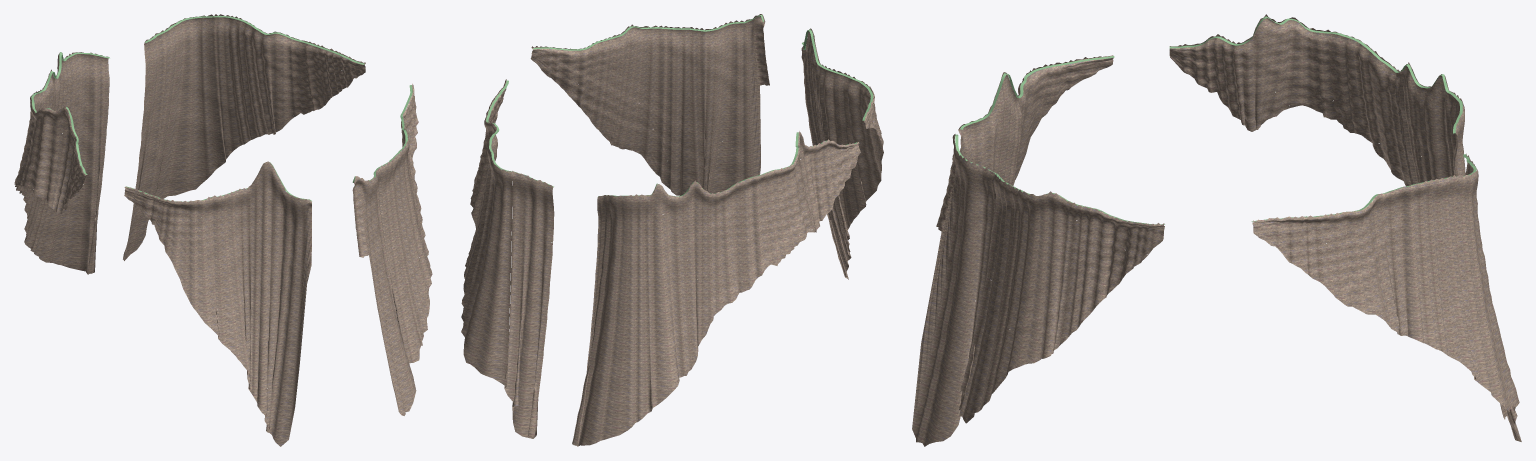
The model's file is CliffWall_gate_massif.glb.
3 views of the same model, side by side, from view 1: azimuth 30°, elevation 25°; view 2: azimuth 150°, elevation 25°; view 3: azimuth 270°, elevation 25° (orthographic). The views are drawn at different scales.
Visible parts, largest first — view 1: CliffWall_gate_massif-rock2, CliffWall_gate_massif-rock0, CliffWall_gate_massif-rock3, CliffWall_gate_massif-rock1, CliffWall_gate_massif-rock4, CliffWall_gate_massif-lip3, CliffWall_gate_massif-lip0; view 2: CliffWall_gate_massif-rock3, CliffWall_gate_massif-rock1, CliffWall_gate_massif-rock0, CliffWall_gate_massif-rock4, CliffWall_gate_massif-rock2, CliffWall_gate_massif-lip1; view 3: CliffWall_gate_massif-rock1, CliffWall_gate_massif-rock0, CliffWall_gate_massif-rock3, CliffWall_gate_massif-rock2, CliffWall_gate_massif-lip3, CliffWall_gate_massif-lip2.
Part boxes in pixels (x1,y1,x2,y2): CliffWall_gate_massif-rock2: [124, 161, 311, 446]; CliffWall_gate_massif-rock0: [155, 14, 365, 198]; CliffWall_gate_massif-rock3: [14, 52, 109, 274]; CliffWall_gate_massif-rock1: [352, 83, 432, 415]; CliffWall_gate_massif-rock4: [123, 21, 179, 260]; CliffWall_gate_massif-lip3: [31, 52, 109, 174]; CliffWall_gate_massif-lip0: [179, 15, 364, 64]; CliffWall_gate_massif-rock3: [572, 131, 860, 446]; CliffWall_gate_massif-rock1: [530, 14, 769, 195]; CliffWall_gate_massif-rock0: [461, 79, 512, 386]; CliffWall_gate_massif-rock4: [504, 171, 554, 438]; CliffWall_gate_massif-rock2: [801, 28, 883, 279]; CliffWall_gate_massif-lip1: [532, 15, 763, 50]; CliffWall_gate_massif-rock1: [912, 134, 1164, 446]; CliffWall_gate_massif-rock0: [1252, 166, 1519, 411]; CliffWall_gate_massif-rock3: [1169, 14, 1506, 419]; CliffWall_gate_massif-rock2: [958, 55, 1113, 185]; CliffWall_gate_massif-lip3: [1169, 16, 1462, 133]; CliffWall_gate_massif-lip2: [960, 55, 1114, 129].
Bounding box in the file's own units: 1382 × 1075 × 1798.
4 materials, 1 textured.
